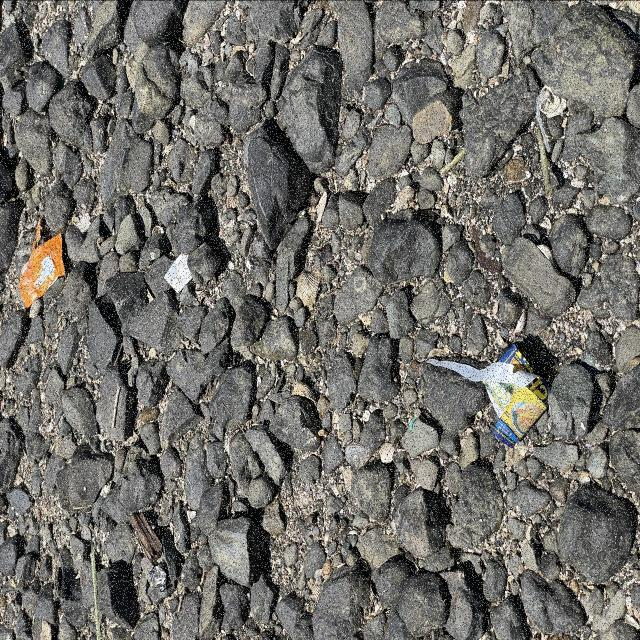plastic_waste: (485, 345, 549, 451), (21, 233, 67, 314)
